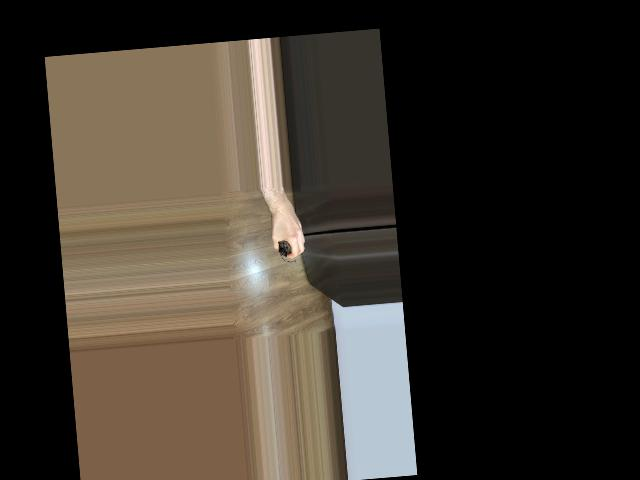beet: (277, 240, 296, 264)
